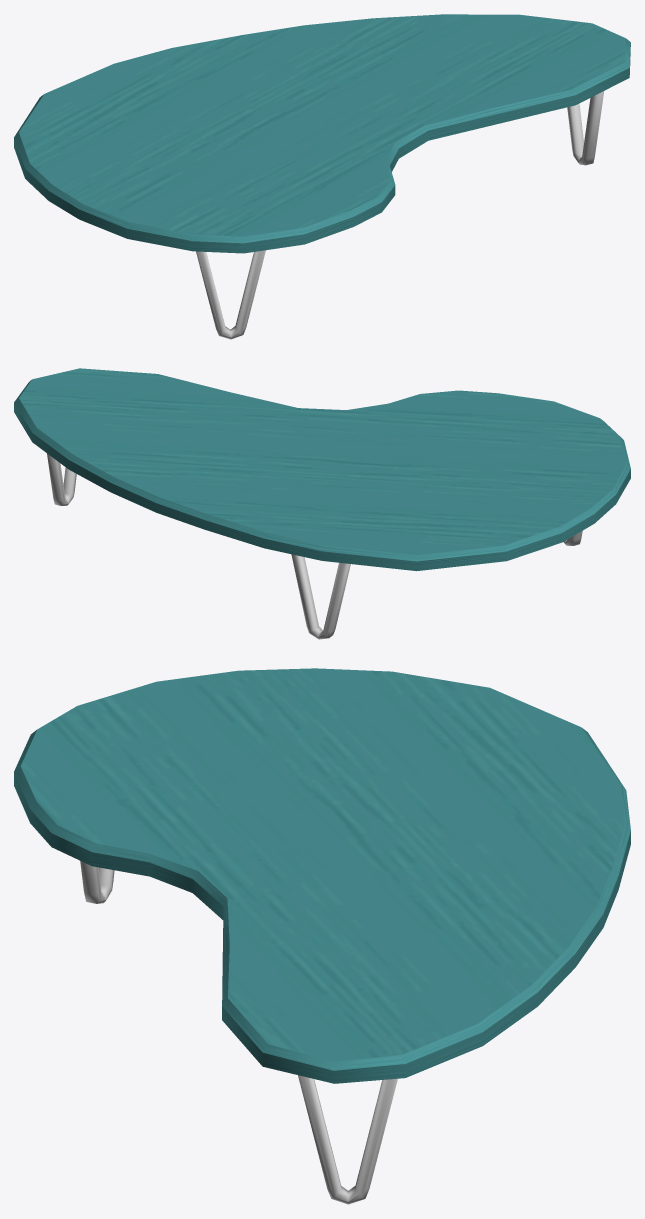
The model's file is Kidney_Table_09.FBX.
The picture shows the model from 3 angles, top to bottom: view 1: azimuth 30°, elevation 25°; view 2: azimuth 150°, elevation 25°; view 3: azimuth 270°, elevation 25°; orthographic projection. The views are drawn at different scales.
Visible parts, largest first — view 1: Kidney_Bean_Table; view 2: Kidney_Bean_Table; view 3: Kidney_Bean_Table.
Boxes of the visible parts, bbox=[...] form: Kidney_Bean_Table: bbox=[14, 14, 630, 339]; Kidney_Bean_Table: bbox=[14, 368, 630, 639]; Kidney_Bean_Table: bbox=[14, 668, 630, 1204].
Bounding box in the file's own units: 396 × 76.96 × 259.
